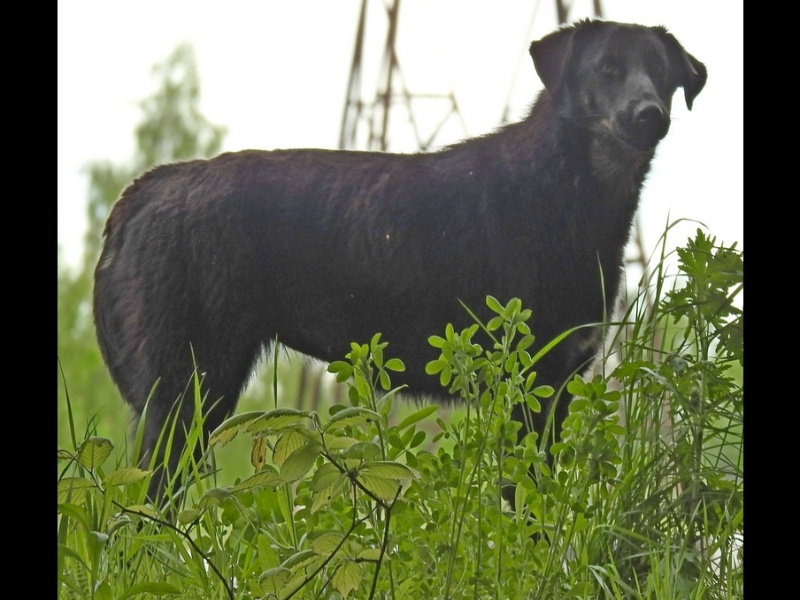dog: (91, 19, 710, 538)
